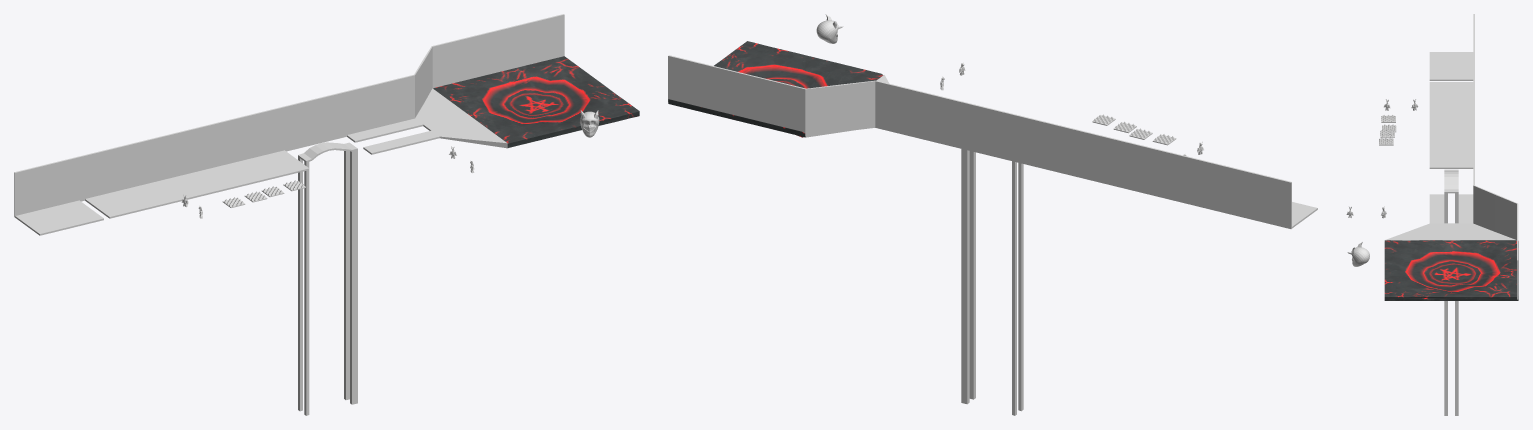
File: first_level.fbx
3 renders of one model, left to right at view 1: azimuth 30°, elevation 25°; view 2: azimuth 150°, elevation 25°; view 3: azimuth 270°, elevation 25°, orthographic. The views are drawn at different scales.
Visible parts, largest first — view 1: duvar, Savas_alanı, Kopru, Kopru_zemın, zemın_bossa_dogru, zemın_001, zıplama_zemın; view 2: duvar, Kopru, Savas_alanı; view 3: Savas_alanı, Kopru_zemın, zemın_bossa_dogru, duvar, Kopru, zemın_001, zıplama_zemın, Boss_1.
Part boxes in pixels (x1=…): duvar: x1=14, y1=14, x2=564, y2=217; Savas_alanı: x1=433, y1=56, x2=639, y2=147; Kopru: x1=298, y1=142, x2=357, y2=415; Kopru_zemın: x1=101, y1=150, x2=309, y2=214; zemın_bossa_dogru: x1=347, y1=88, x2=507, y2=154; zemın_001: x1=15, y1=205, x2=82, y2=235; zıplama_zemın: x1=58, y1=195, x2=125, y2=225; duvar: x1=668, y1=55, x2=1291, y2=228; Kopru: x1=961, y1=149, x2=1023, y2=415; Savas_alanı: x1=668, y1=41, x2=883, y2=137; Savas_alanı: x1=1384, y1=240, x2=1518, y2=300; Kopru_zemın: x1=1429, y1=88, x2=1473, y2=168; zemın_bossa_dogru: x1=1384, y1=194, x2=1516, y2=240; duvar: x1=1473, y1=14, x2=1518, y2=299; Kopru: x1=1444, y1=169, x2=1458, y2=415; zemın_001: x1=1429, y1=52, x2=1473, y2=70; zıplama_zemın: x1=1429, y1=70, x2=1473, y2=88; Boss_1: x1=1347, y1=242, x2=1369, y2=266.
Size of the model in its own units: 36202 by 17955 by 10686.
